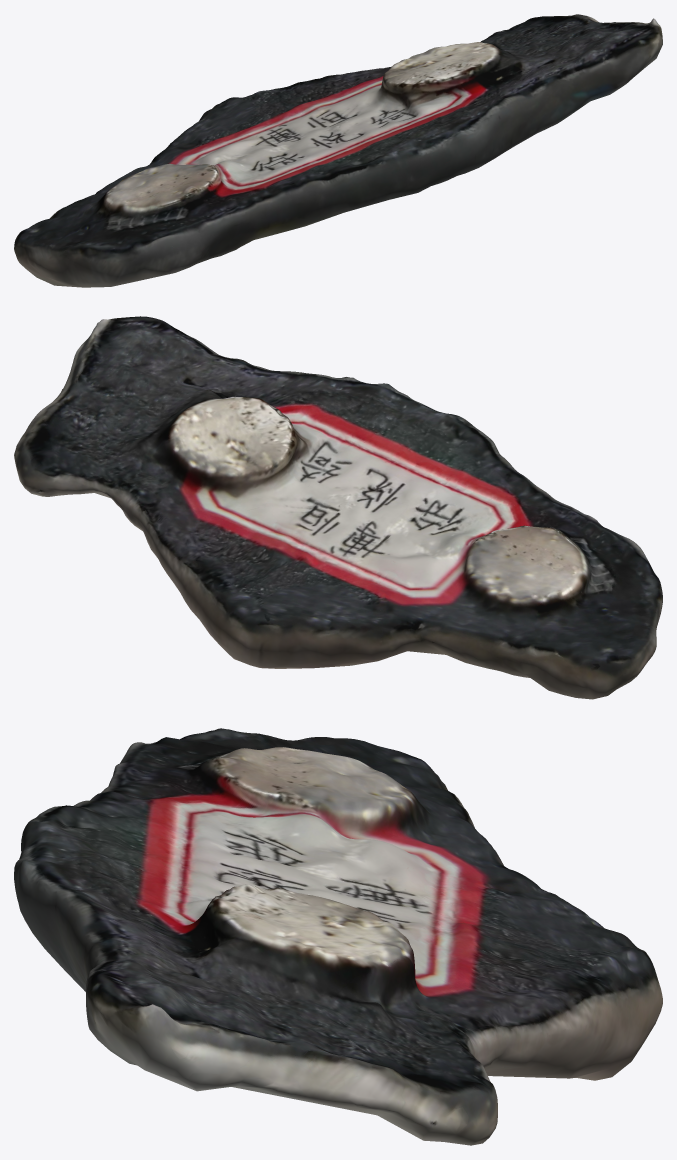
The picture shows the model from 3 angles, top to bottom: view 1: azimuth 30°, elevation 25°; view 2: azimuth 150°, elevation 25°; view 3: azimuth 270°, elevation 25°; orthographic projection. The views are drawn at different scales.
Bounding box in the file's own units: 0.7583 × 0.2239 × 0.4134.
Materials: 1 (1 with a texture image).
